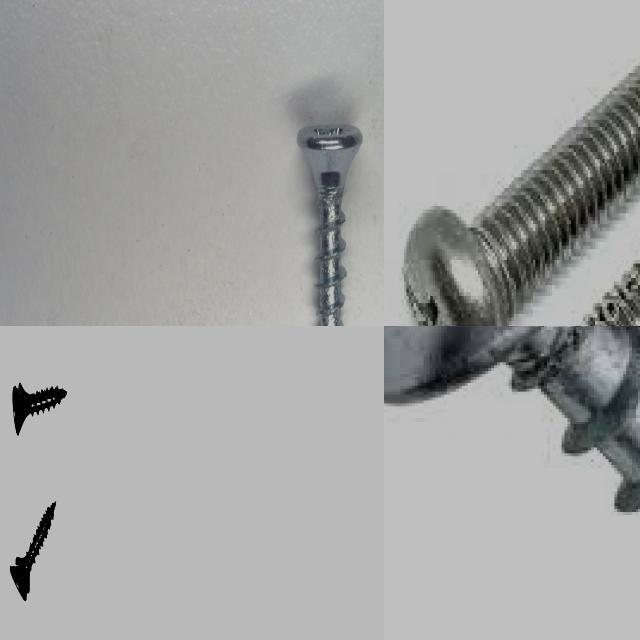Screw: (402, 67, 640, 326), (384, 326, 640, 517), (295, 120, 362, 326), (9, 500, 56, 599), (12, 381, 66, 433)
